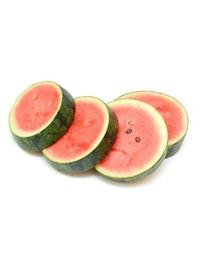watermelon: (9, 78, 189, 187)
